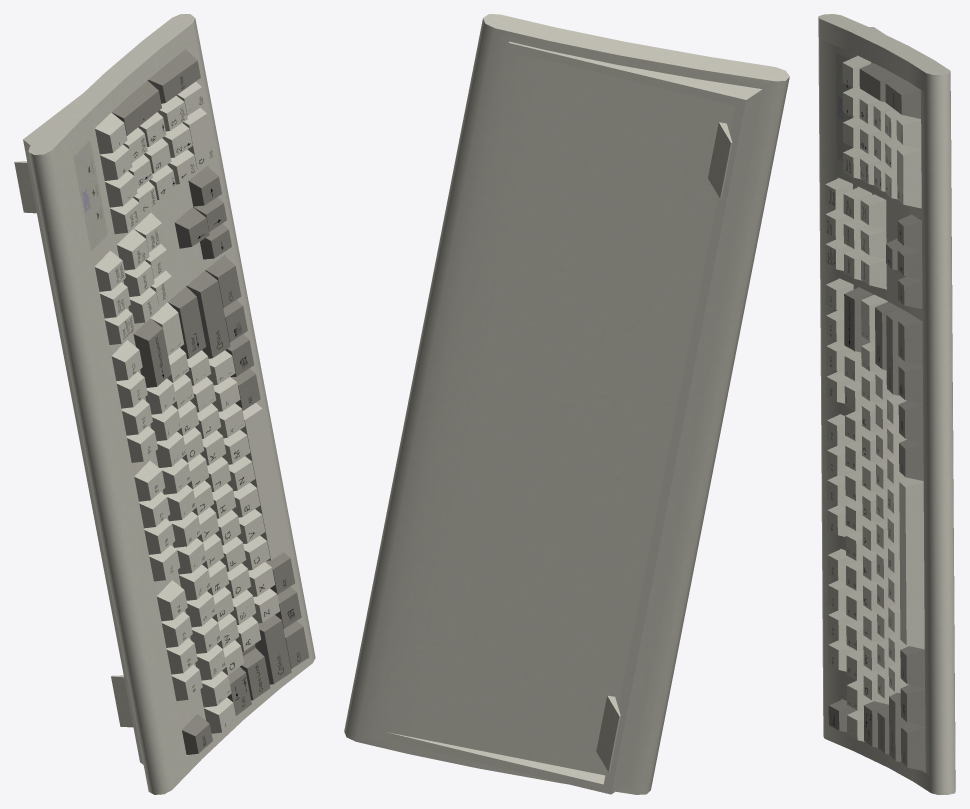
Rendered from right_leg.glb.
The picture shows the model from 3 angles, left to right: view 1: azimuth 30°, elevation 25°; view 2: azimuth 150°, elevation 25°; view 3: azimuth 270°, elevation 25°; orthographic projection. The views are drawn at different scales.
Visible parts, largest first — view 1: Keyboard; view 2: Keyboard; view 3: Keyboard.
Part boxes in pixels (box(x1,y1,x2,y2)): Keyboard: box(14, 14, 315, 794); Keyboard: box(344, 14, 789, 794); Keyboard: box(818, 14, 955, 794).
Bounding box in the file's own units: 0.5551 × 1.12 × 0.1971.
1 material, 1 textured.
